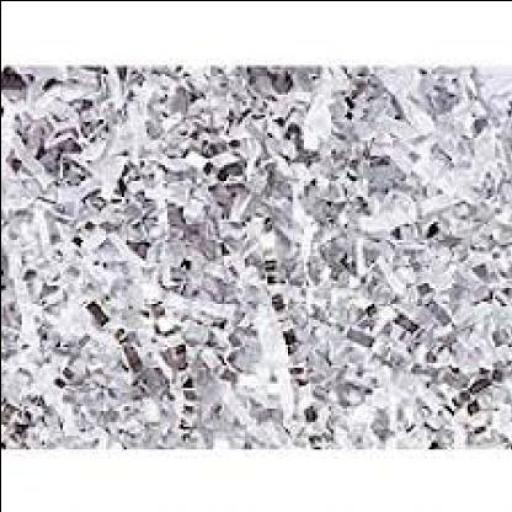paper: (2, 66, 511, 452)
